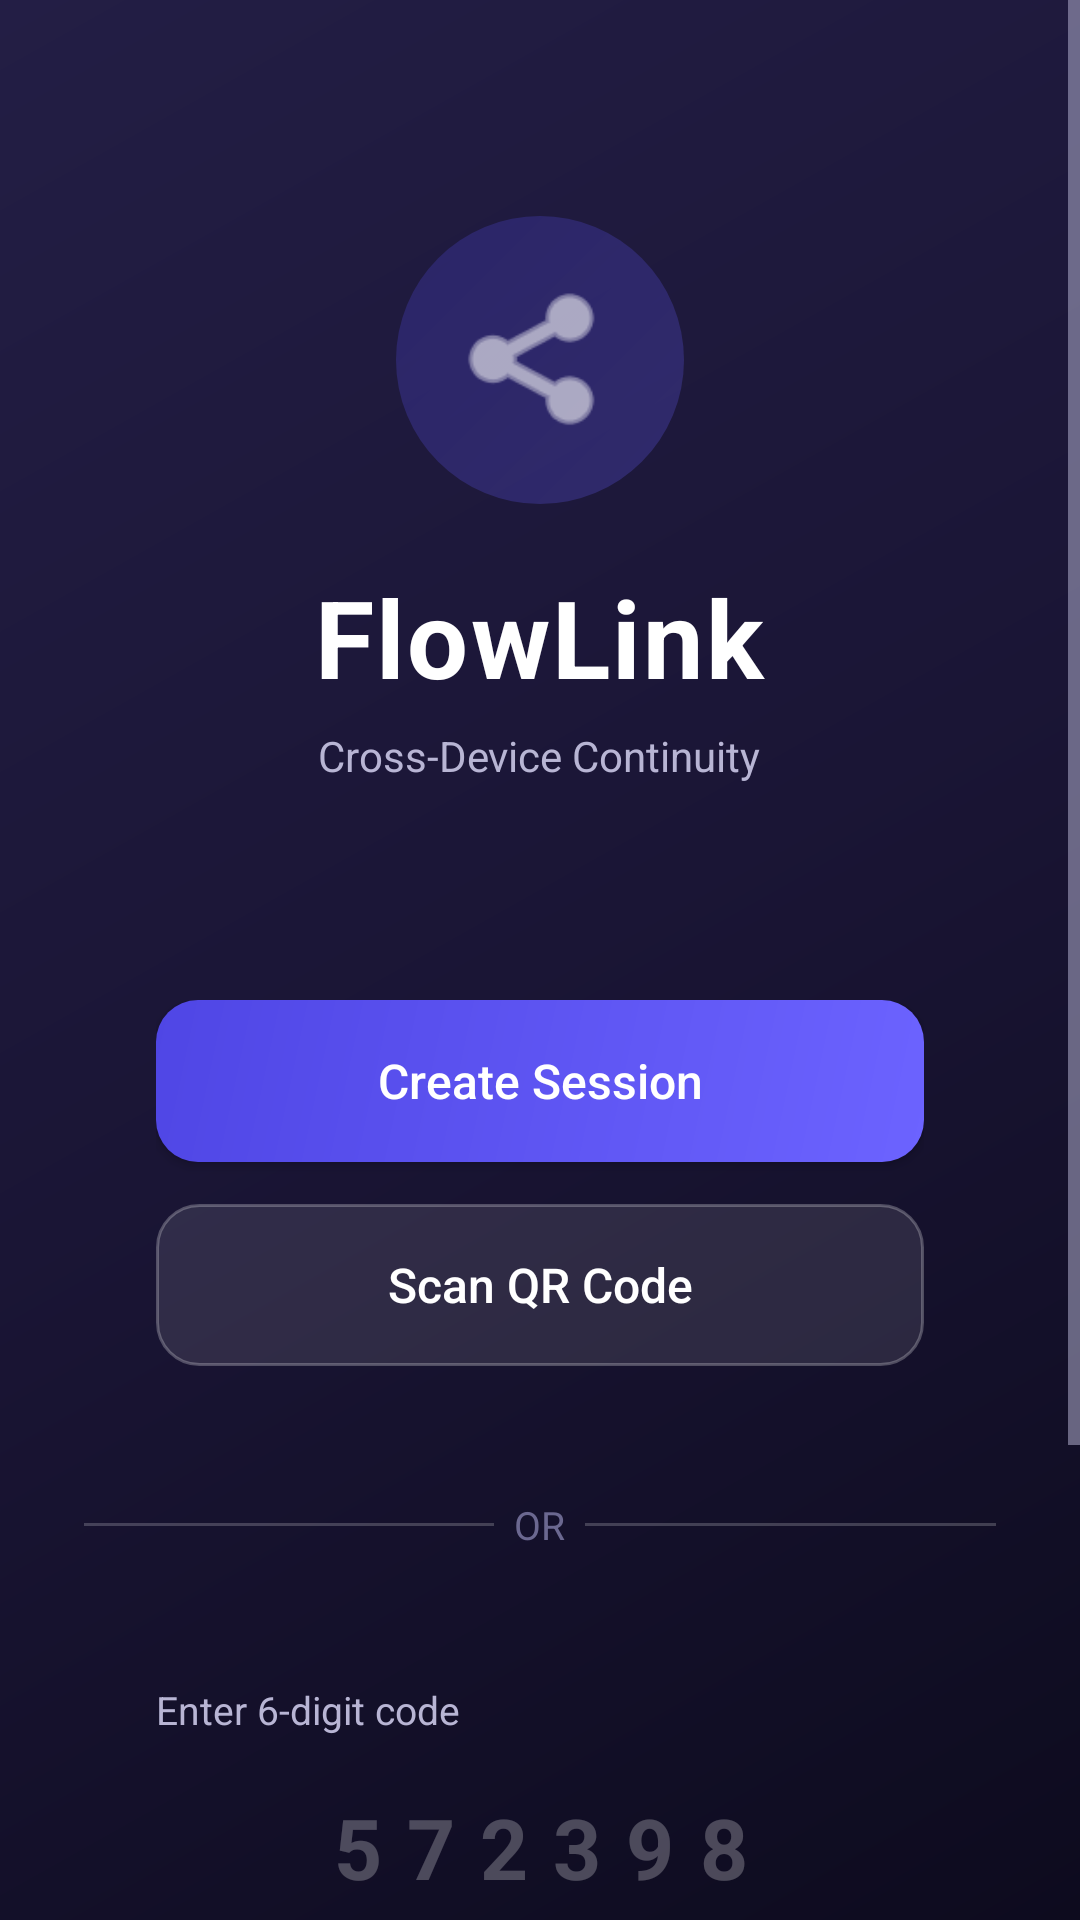

Where icons sit on this 1080 × 1920 app screen, as (left=x1, top=y1, right=x2, bottom=y2):
share: (left=468, top=293, right=594, bottom=425)
